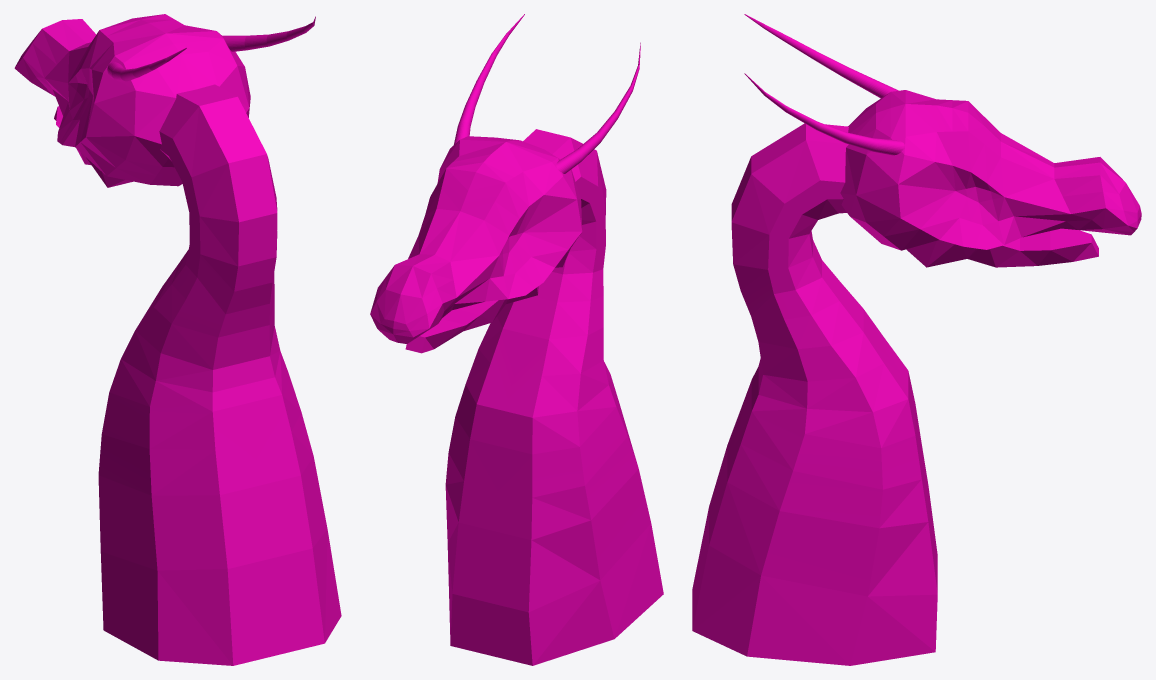
File: Doragon.obj
The picture shows the model from 3 angles, left to right: view 1: azimuth 30°, elevation 25°; view 2: azimuth 150°, elevation 25°; view 3: azimuth 270°, elevation 25°; orthographic projection. The views are drawn at different scales.
Parts seen in each view (by area): view 1: 角_円柱; view 2: 角_円柱; view 3: 角_円柱.
Part boxes in pixels (x1=…): 角_円柱: x1=14, y1=14, x2=341, y2=665; 角_円柱: x1=370, y1=14, x2=663, y2=665; 角_円柱: x1=692, y1=14, x2=1141, y2=665.
Bounding box in the file's own units: 0.5904 × 1.93 × 1.33.
Materials: 1 (1 with a texture image).
